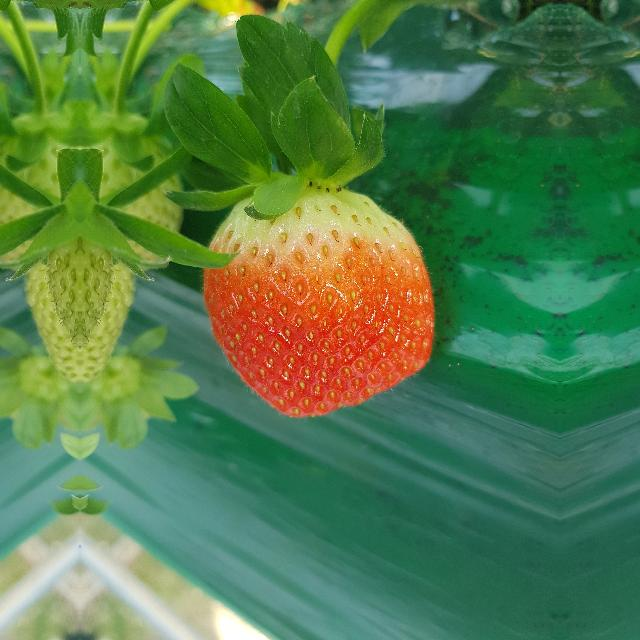Health_75: (202, 185, 434, 418)
